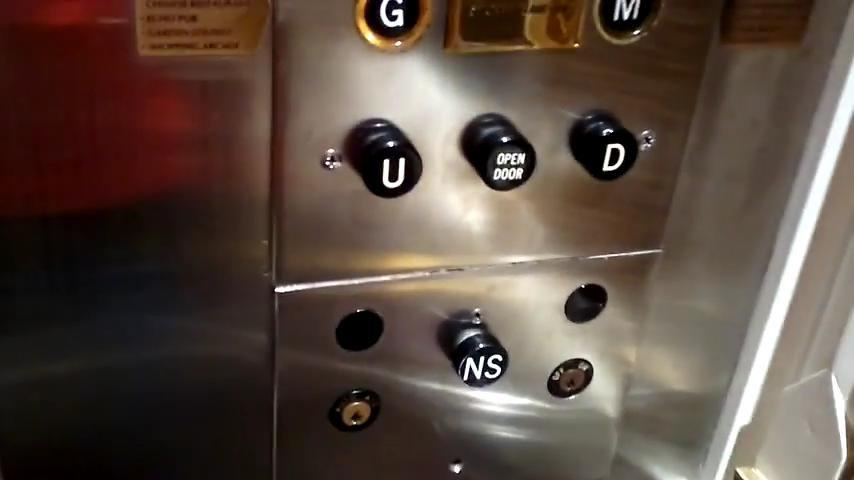D: (573, 106, 638, 190)
NS: (443, 316, 510, 392)
U: (350, 118, 424, 204)
empty: (334, 305, 385, 362), (562, 280, 607, 328)
keyhole: (329, 387, 381, 436), (546, 355, 596, 404)
text: (460, 110, 540, 198)
